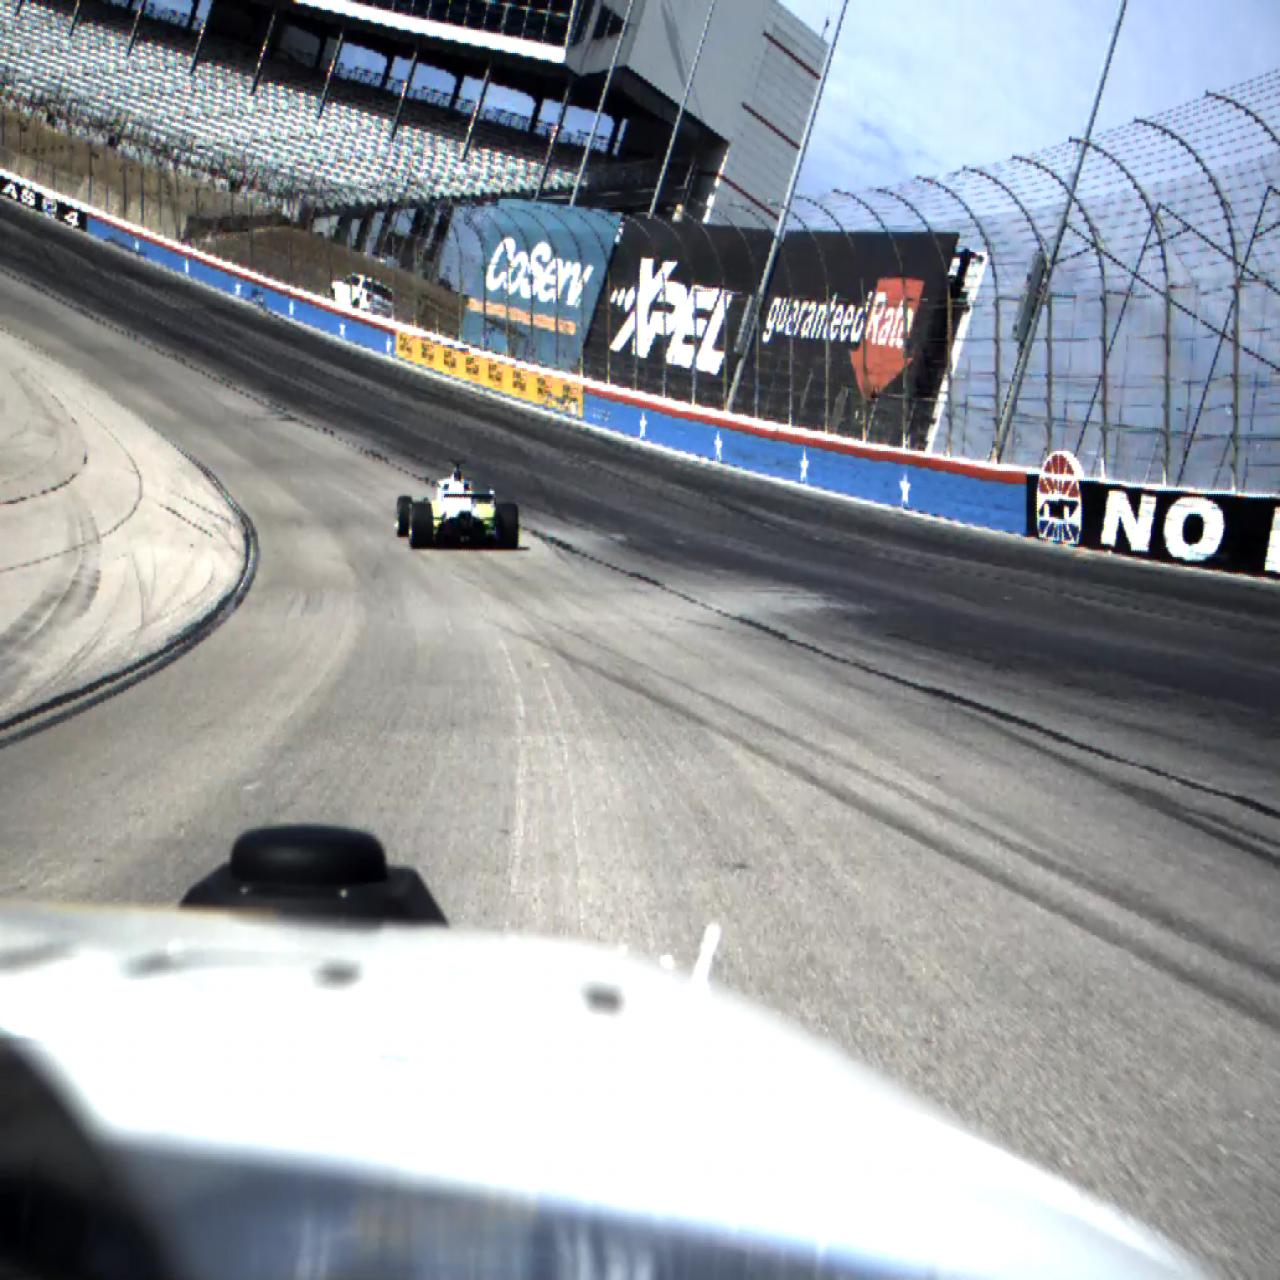AV: (395, 459, 519, 550)
Wheel: (409, 502, 433, 549), (496, 503, 518, 550), (396, 496, 411, 538)
